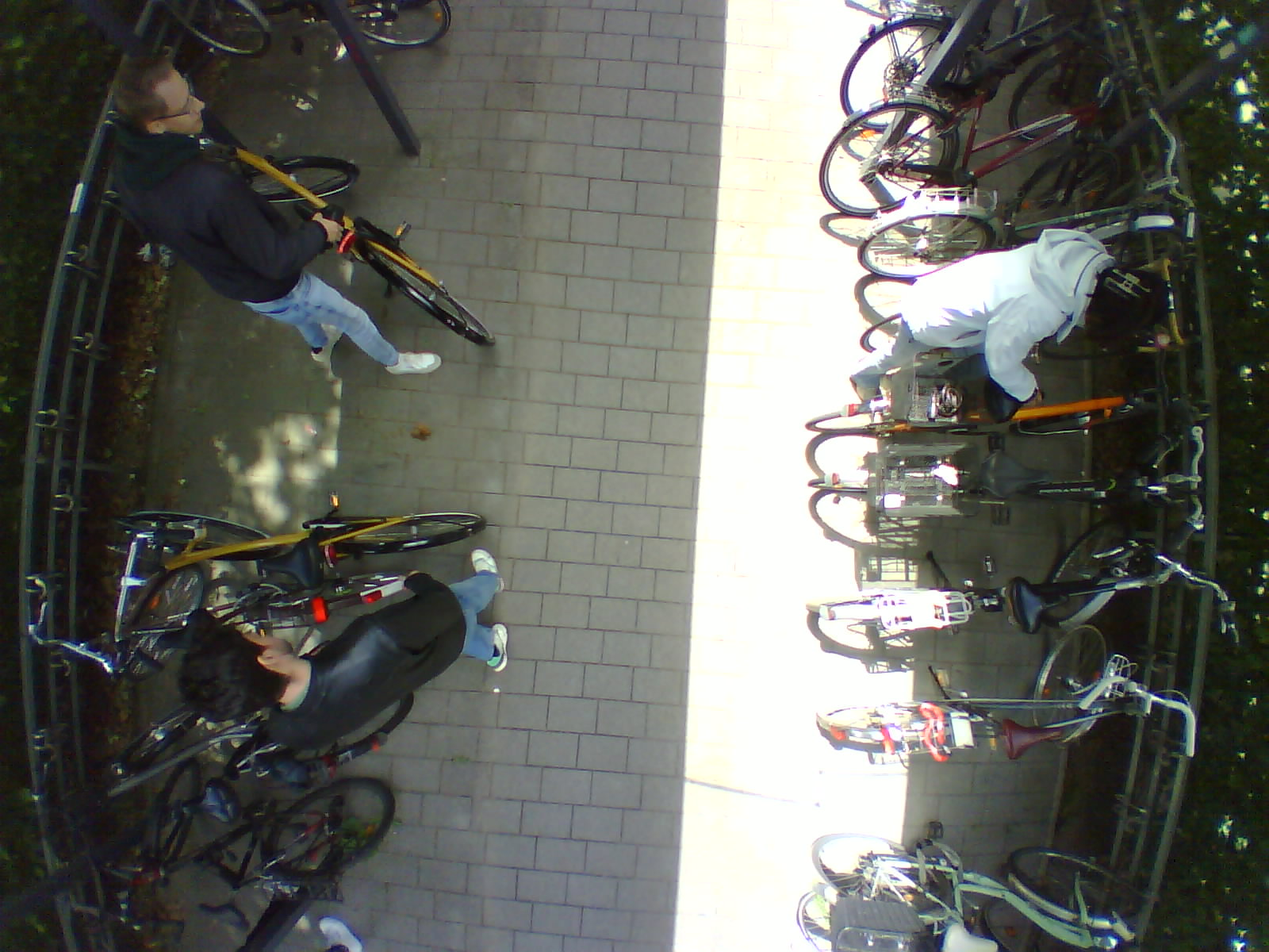bicylce: (202, 121, 495, 344), (807, 84, 1127, 244), (33, 567, 412, 697), (96, 777, 388, 932), (806, 823, 1146, 951), (105, 502, 487, 607), (835, 176, 1180, 285), (802, 435, 1206, 527), (840, 19, 1134, 132), (95, 675, 414, 777), (797, 568, 1184, 650), (811, 697, 1100, 785), (819, 389, 1167, 447)
saddle: (982, 445, 1052, 504), (256, 539, 322, 594), (1004, 580, 1067, 635), (997, 720, 1063, 763), (179, 780, 238, 828), (307, 184, 362, 234), (959, 42, 1017, 85), (154, 610, 211, 652), (999, 380, 1046, 425), (195, 901, 253, 934), (940, 920, 998, 952), (473, 360, 479, 360)
